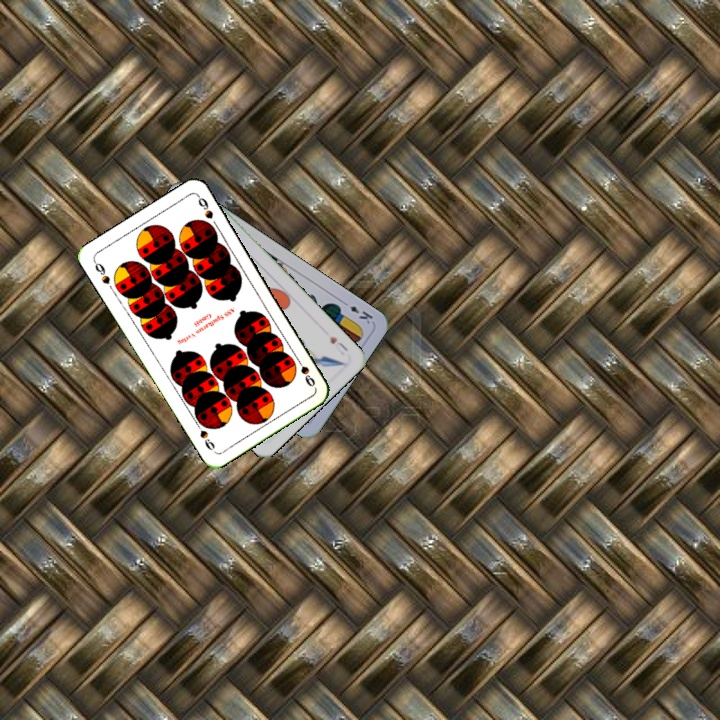EK: (338, 297, 375, 327)
HU: (325, 332, 351, 358)
S9: (292, 353, 318, 389), (90, 257, 113, 287)
